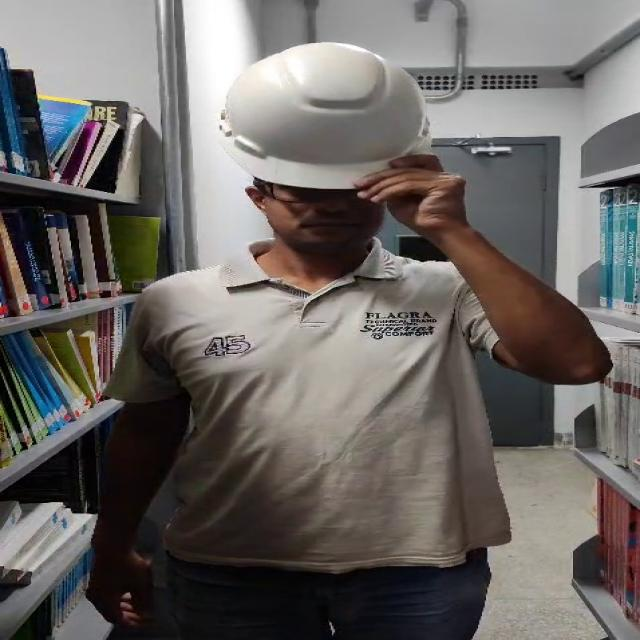capacete: (192, 32, 460, 218)
